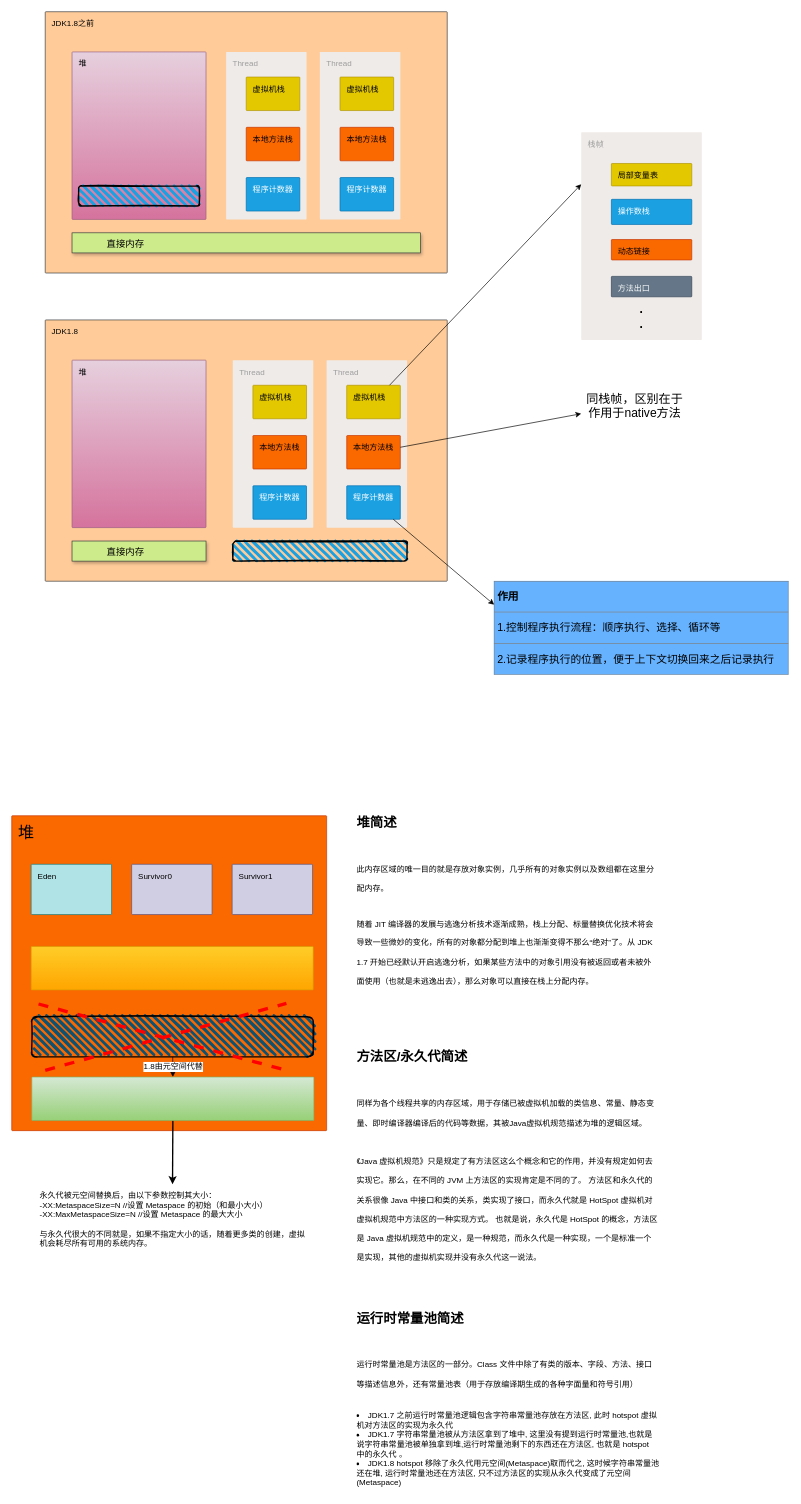
Some shapes in this 801 by 1504 pixel diagram are drawn without their labels. Here are the shapes that lost their labels. From the top down, the centre of each, then its label:
[139,195]: 方法区
[319,550]: 元空间
[171,968]: Old Generation
[172,1036]: Permanent Generation
[172,1098]: MetaSpace
